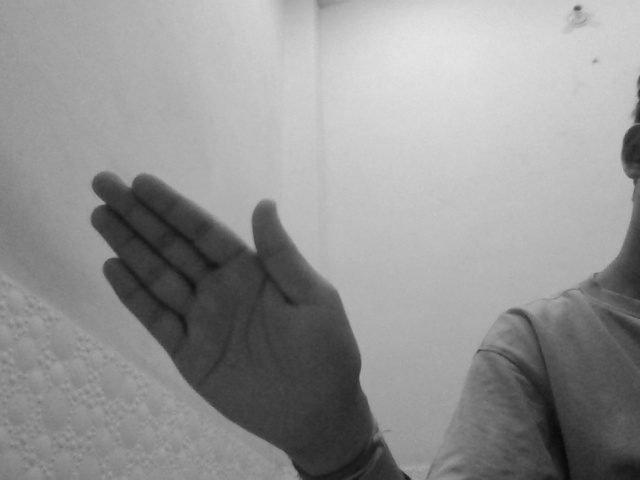Hello: (79, 167, 364, 445)
